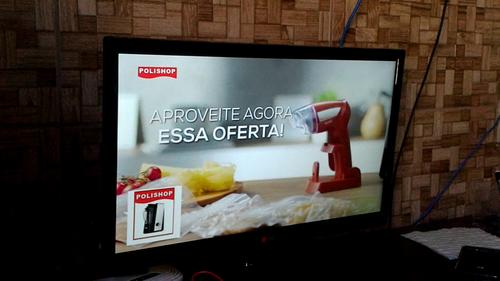Polishop #1: (126, 184, 181, 246)
